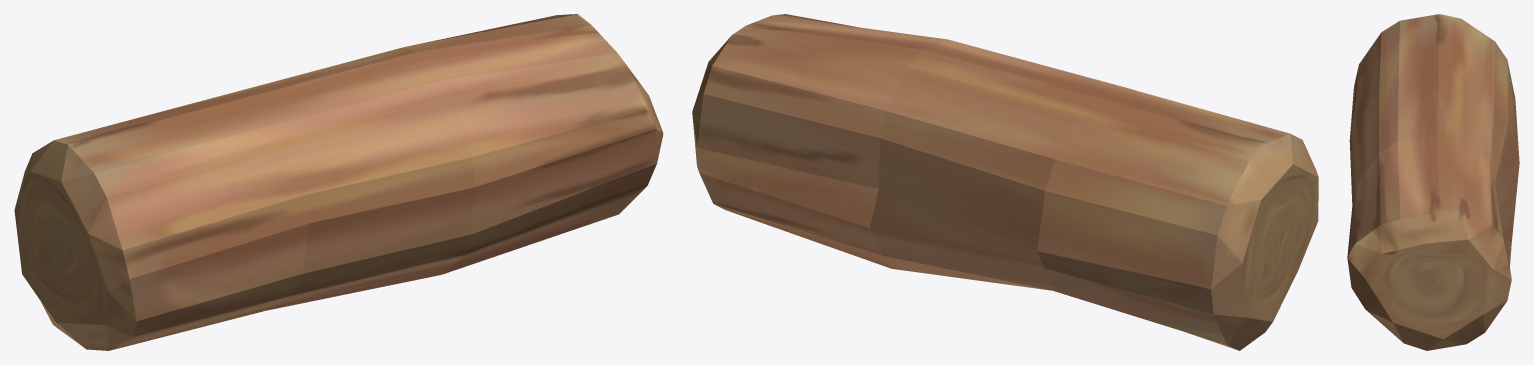
The model's file is wood-block-02.obj.
3 renders of one model, left to right at view 1: azimuth 30°, elevation 25°; view 2: azimuth 150°, elevation 25°; view 3: azimuth 270°, elevation 25°, orthographic. The views are drawn at different scales.
Visible parts, largest first — view 1: wood-block-02; view 2: wood-block-02; view 3: wood-block-02.
Boxes of the visible parts, left/top/right/bottom form: wood-block-02: left=14, top=14, right=663, bottom=350; wood-block-02: left=692, top=14, right=1318, bottom=350; wood-block-02: left=1347, top=14, right=1519, bottom=350.
Bounding box in the file's own units: 1.03 × 0.3845 × 0.3607.
